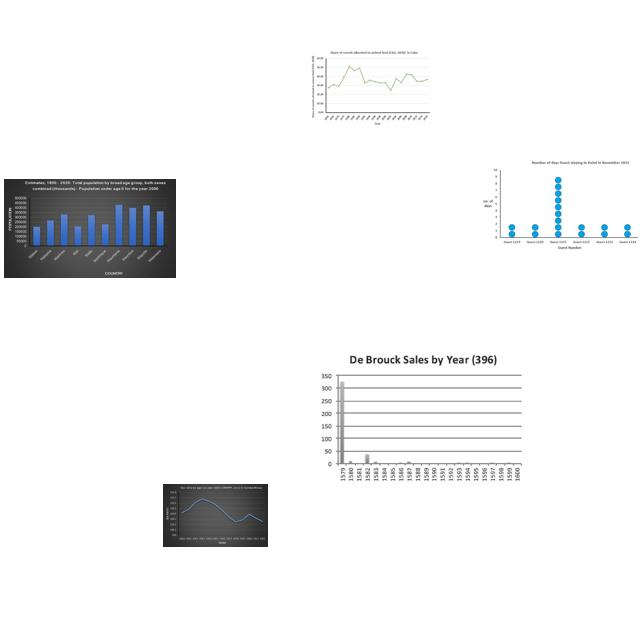Graph: (319, 348, 527, 489), (4, 179, 176, 278), (481, 159, 638, 252), (310, 49, 432, 127), (163, 484, 268, 547)
